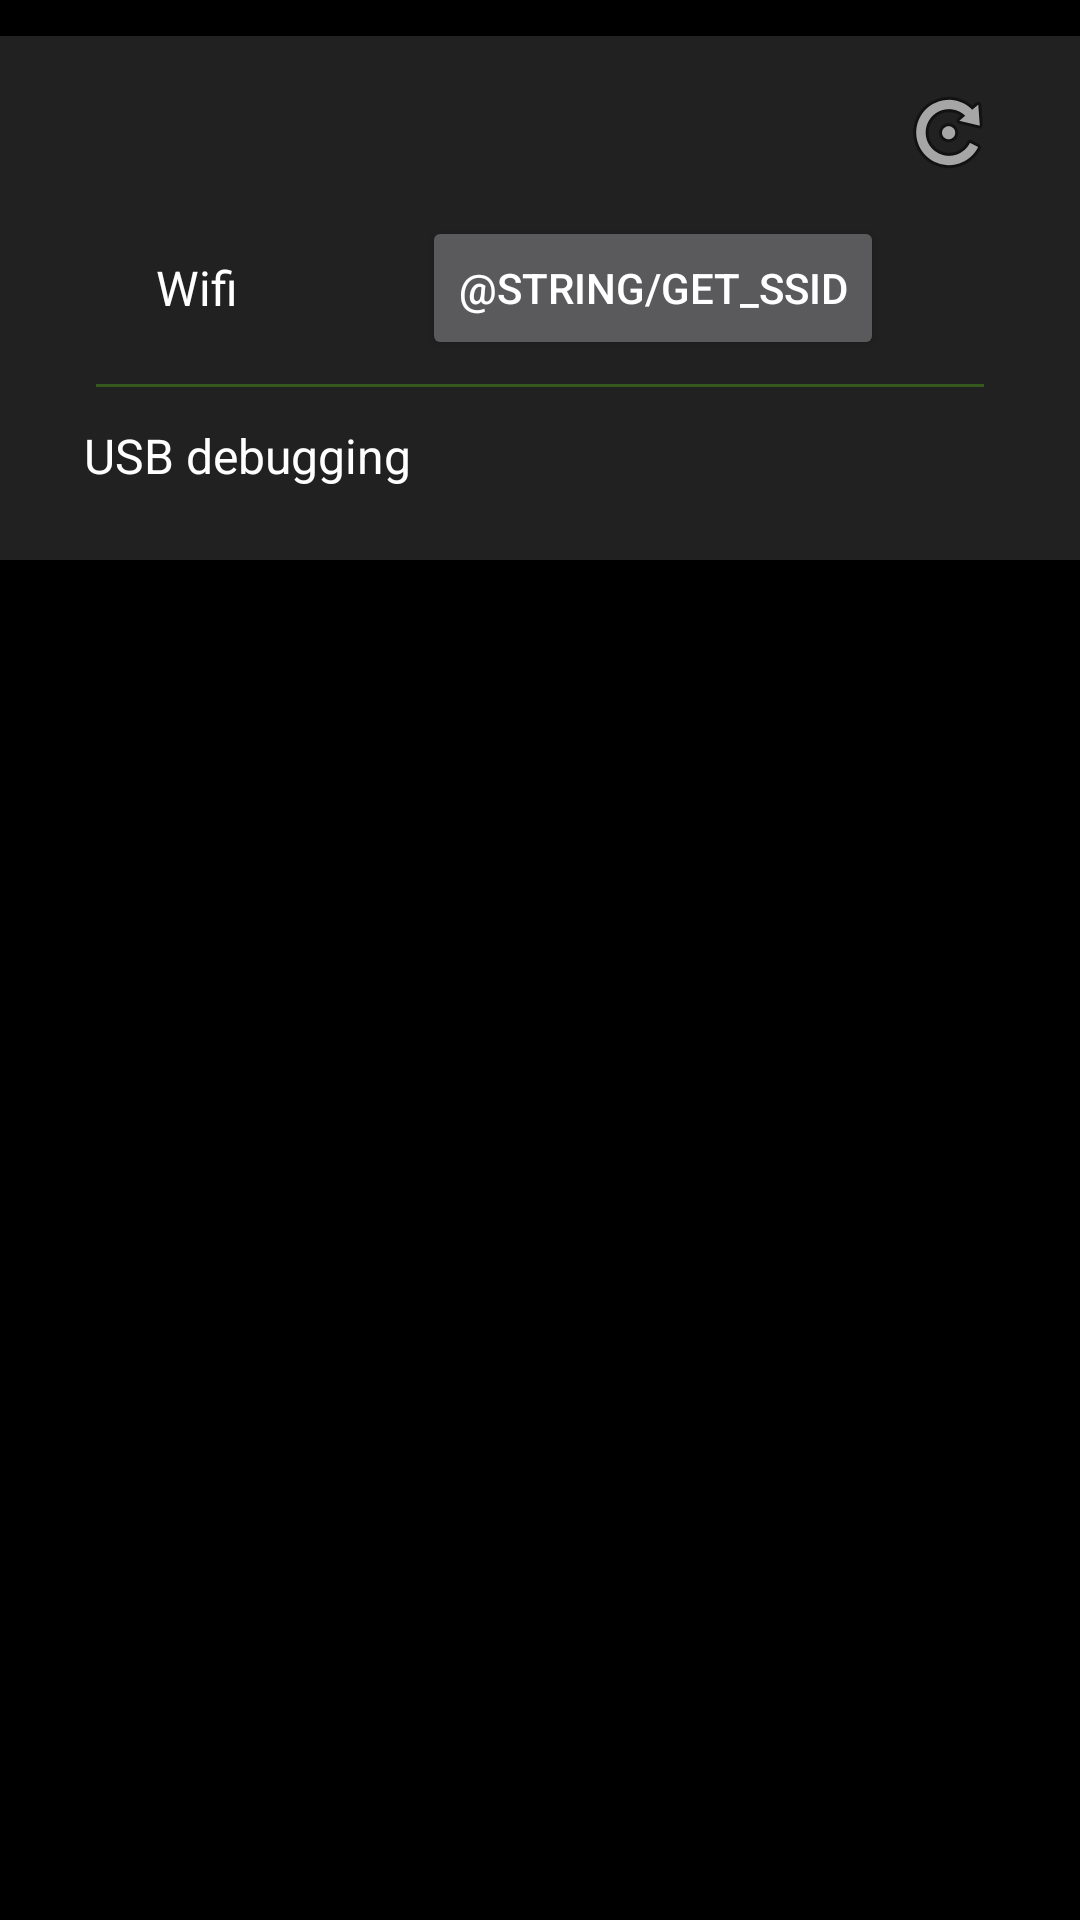

Where to tap for icons on this 1080px×1920px app screen, as point (x, y):
rotate: point (948, 132)
